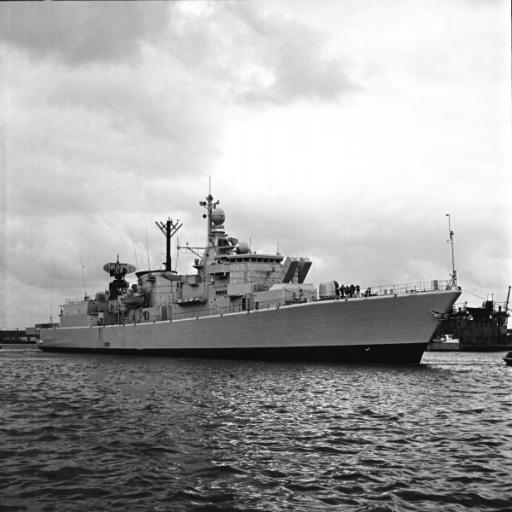Fragata: (32, 172, 466, 373)
